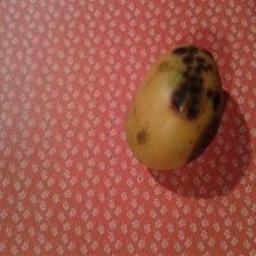Mango Rotten: (121, 40, 232, 184)
